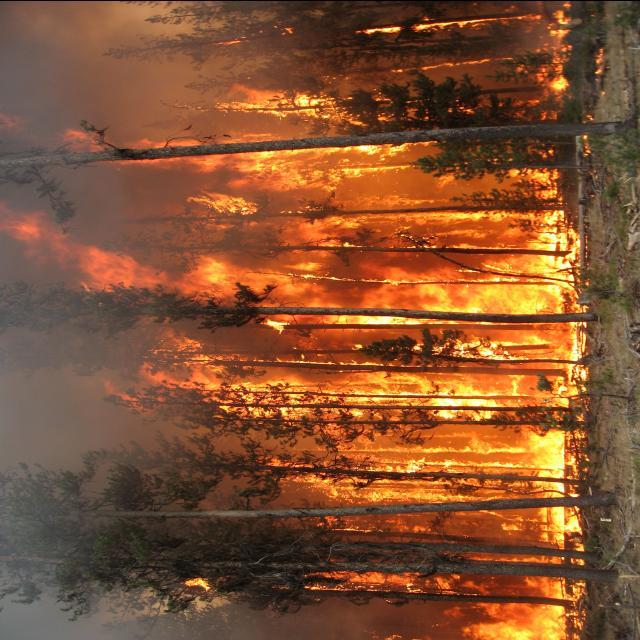Fire: (19, 4, 581, 634)
